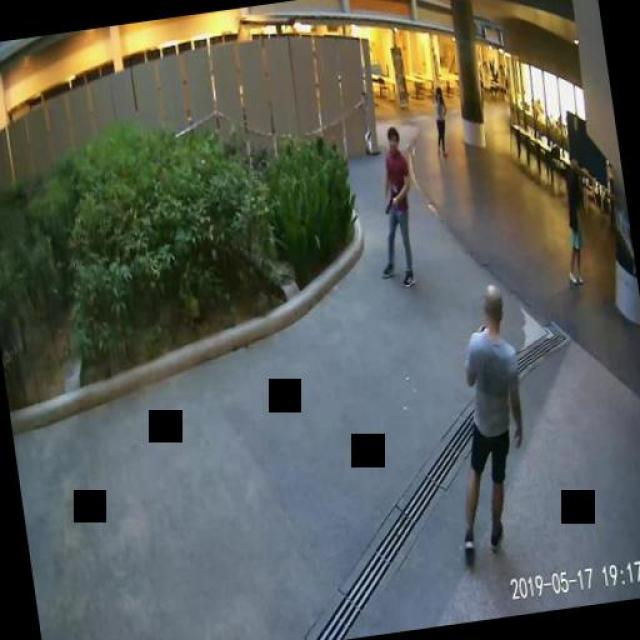gun: (382, 195, 397, 213)
